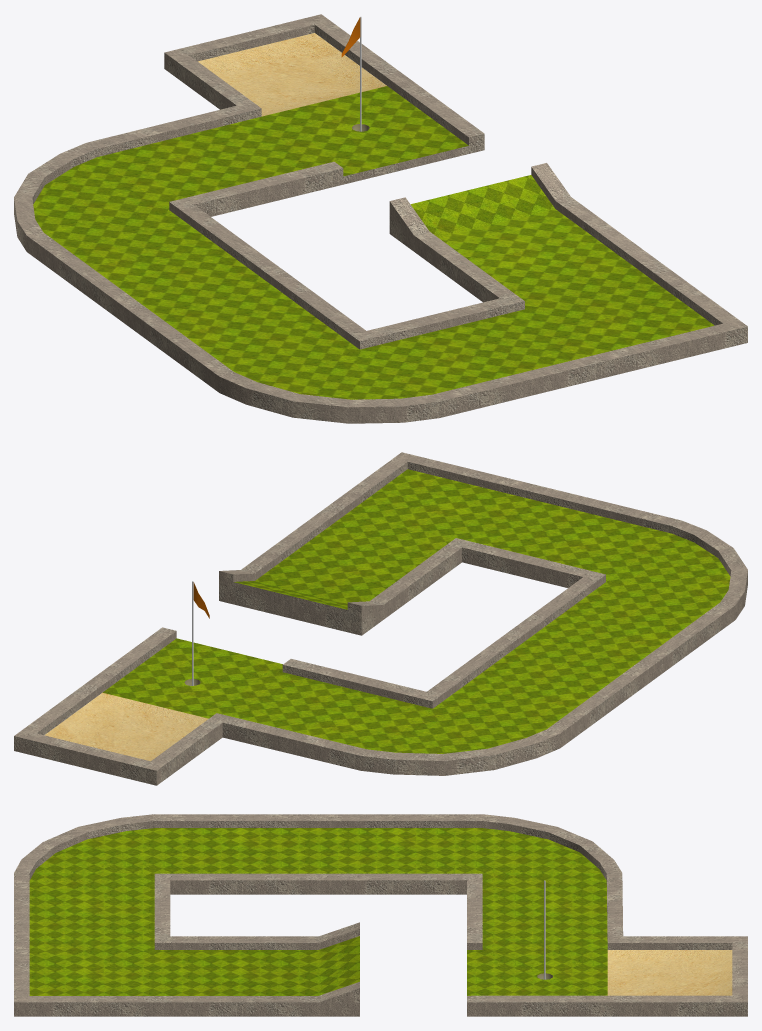
The model's file is course4_hole3.fbx.
The picture shows the model from 3 angles, top to bottom: view 1: azimuth 30°, elevation 25°; view 2: azimuth 150°, elevation 25°; view 3: azimuth 270°, elevation 25°; orthographic projection. The views are drawn at different scales.
Parts seen in each view (by area): view 1: course4_hole3_ground, course4_hole3_walls, course4_hole3_sand_trap; view 2: course4_hole3_ground, course4_hole3_walls, course4_hole3_sand_trap; view 3: course4_hole3_ground, course4_hole3_walls, course4_hole3_sand_trap.
Part boxes in pixels (x1,y1,x2,y2): course4_hole3_ground: (33,86,714,399); course4_hole3_walls: (14,14,747,423); course4_hole3_sand_trap: (198,33,386,116); course4_hole3_ground: (103,469,730,753); course4_hole3_walls: (14,452,747,785); course4_hole3_sand_trap: (45,692,208,761); course4_hole3_ground: (29,828,607,995); course4_hole3_walls: (14,814,747,1016); course4_hole3_sand_trap: (607,950,732,995).
Size of the model in its own units: 285 by 75.04 by 470.
